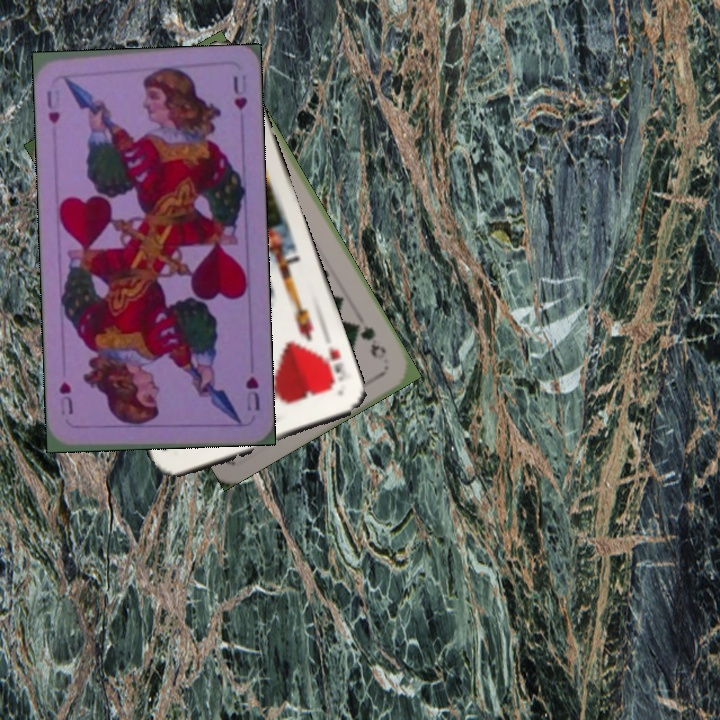G9: (356, 321, 389, 362)
HK: (317, 341, 354, 392)
HU: (241, 372, 262, 414), (43, 87, 63, 127)
